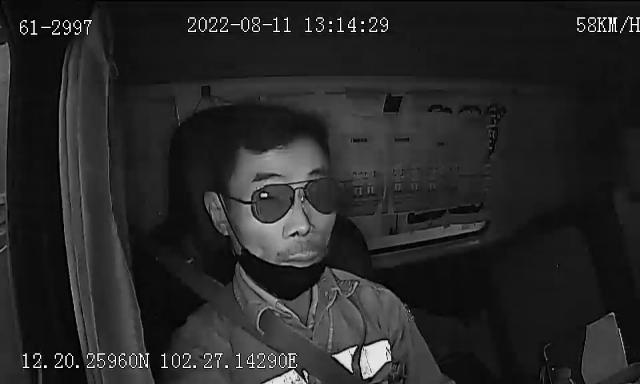SafeDriving: (418, 96, 460, 120), (252, 186, 284, 206)
Seatbelt: (169, 258, 361, 384)
